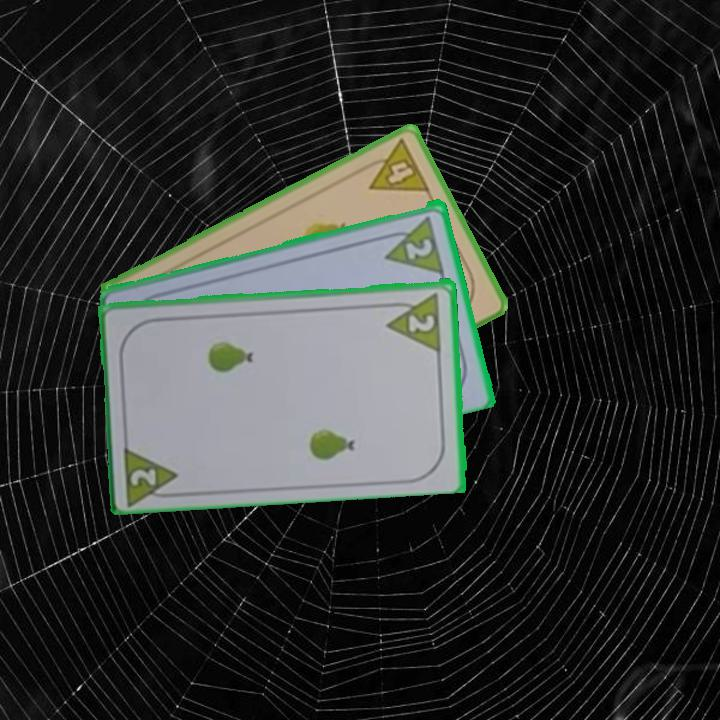2p: (377, 211, 447, 275), (120, 439, 184, 504), (383, 288, 445, 353)
4p: (356, 135, 433, 195)
